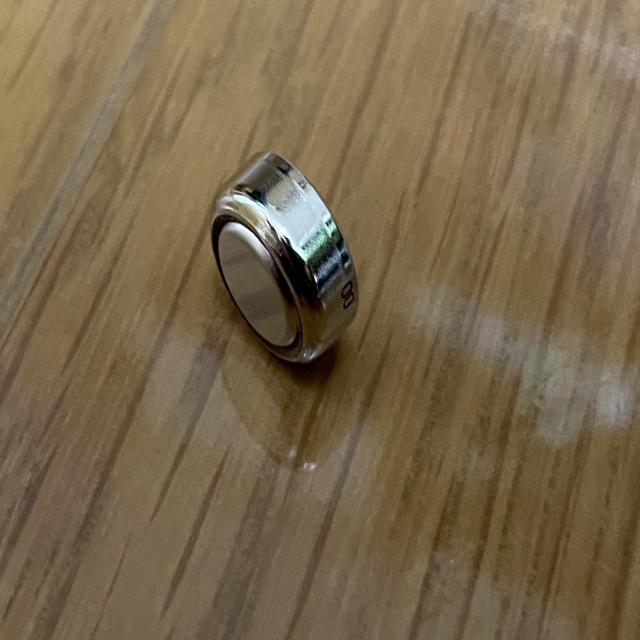COIN: (206, 146, 361, 369)
